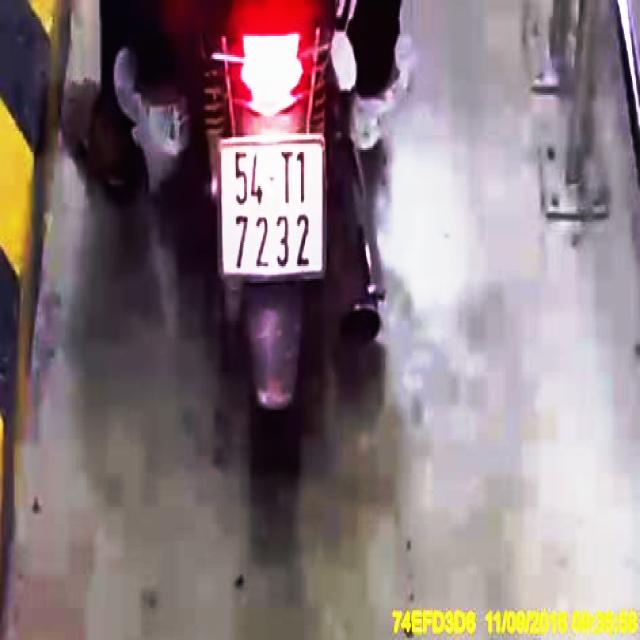license_plate: (219, 140, 327, 276)
